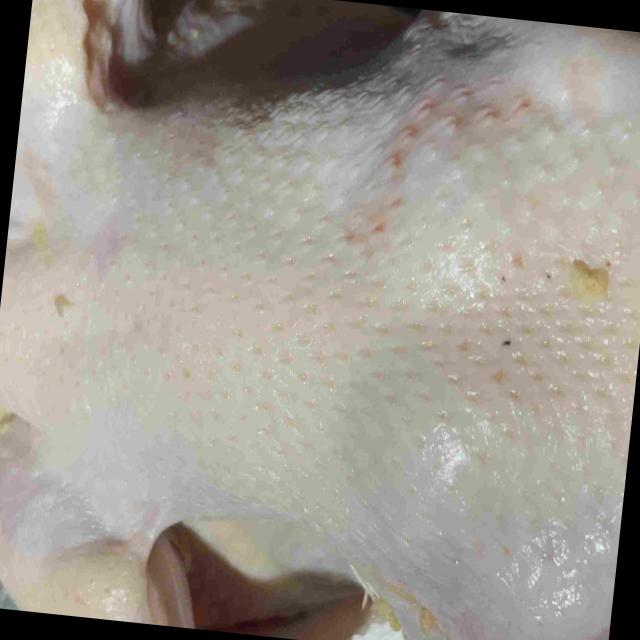back: (28, 60, 640, 557)
leg: (389, 591, 613, 640)
wing: (11, 0, 139, 198), (0, 528, 203, 629)
